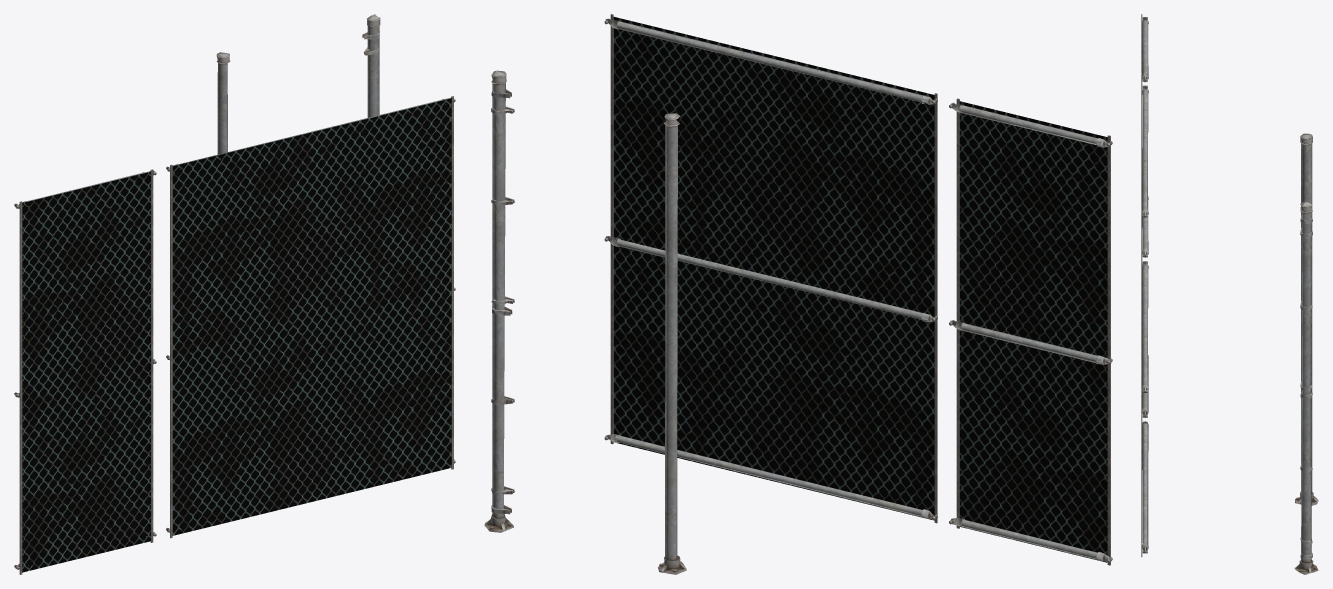
File: modular_chainlink_fence.glb
3 renders of one model, left to right at view 1: azimuth 30°, elevation 25°; view 2: azimuth 150°, elevation 25°; view 3: azimuth 270°, elevation 25°, orthographic. The views are drawn at different scales.
Visible parts, largest first — view 1: modular_chainlink_fence_double, modular_chainlink_fence, modular_chainlink_fence_end_01, modular_chainlink_fence_post; view 2: modular_chainlink_fence_double, modular_chainlink_fence, modular_chainlink_fence_end_01, modular_chainlink_fence_post; view 3: modular_chainlink_fence_end_01, modular_chainlink_fence_double, modular_chainlink_fence_post, modular_chainlink_fence.
Part boxes in pixels (left/top/right/bottom): modular_chainlink_fence_double: left=166, top=96, right=455, bottom=538; modular_chainlink_fence: left=14, top=169, right=156, bottom=574; modular_chainlink_fence_end_01: left=362, top=14, right=380, bottom=117; modular_chainlink_fence_post: left=216, top=52, right=230, bottom=154; modular_chainlink_fence_double: left=604, top=14, right=937, bottom=523; modular_chainlink_fence: left=949, top=98, right=1112, bottom=565; modular_chainlink_fence_end_01: left=484, top=70, right=514, bottom=532; modular_chainlink_fence_post: left=658, top=113, right=686, bottom=574; modular_chainlink_fence_end_01: left=1294, top=201, right=1318, bottom=574; modular_chainlink_fence_double: left=1141, top=82, right=1148, bottom=557; modular_chainlink_fence_post: left=1295, top=133, right=1318, bottom=505; modular_chainlink_fence: left=1141, top=14, right=1148, bottom=417.
Bounding box in the file's own units: 3.03 × 2.52 × 1.1.
2 materials, 2 textured.
